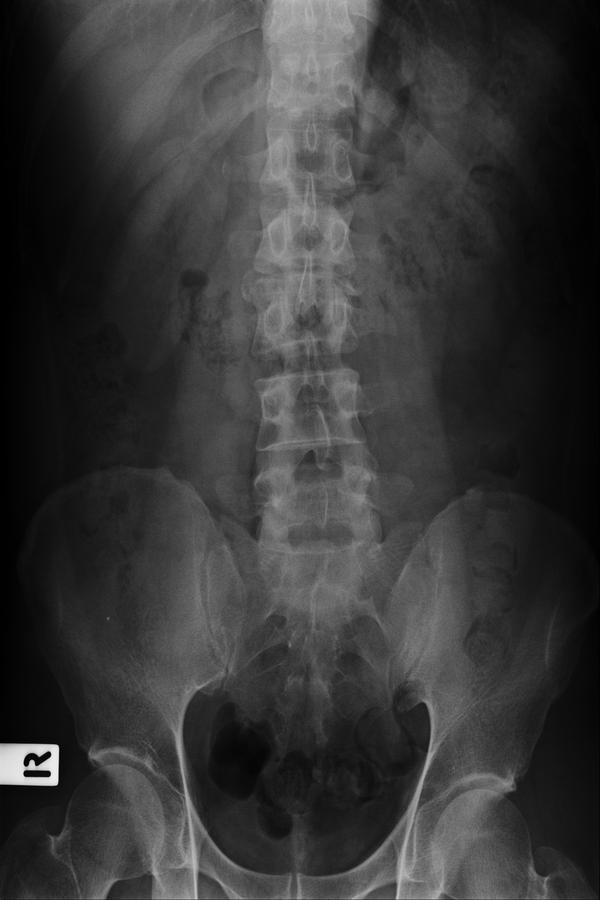lumbar scoliosis: (240, 6, 384, 564)
